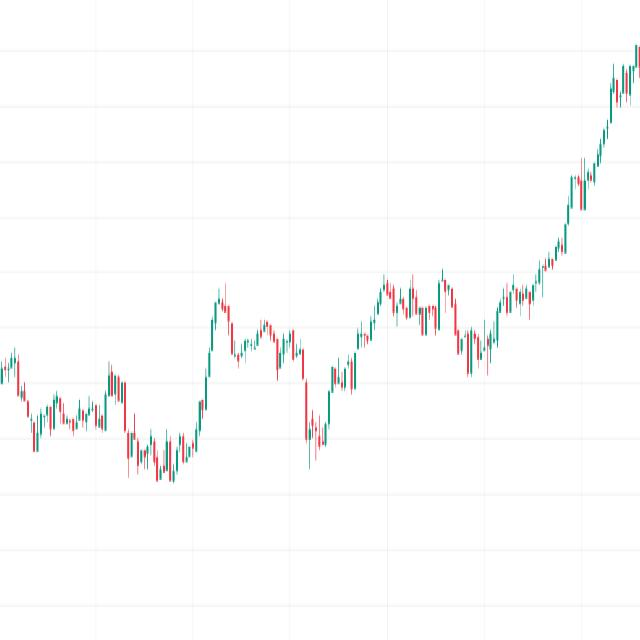Triple-Top: (198, 280, 312, 392)
